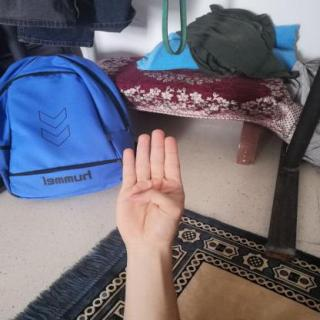KAAF: (106, 122, 199, 258)
